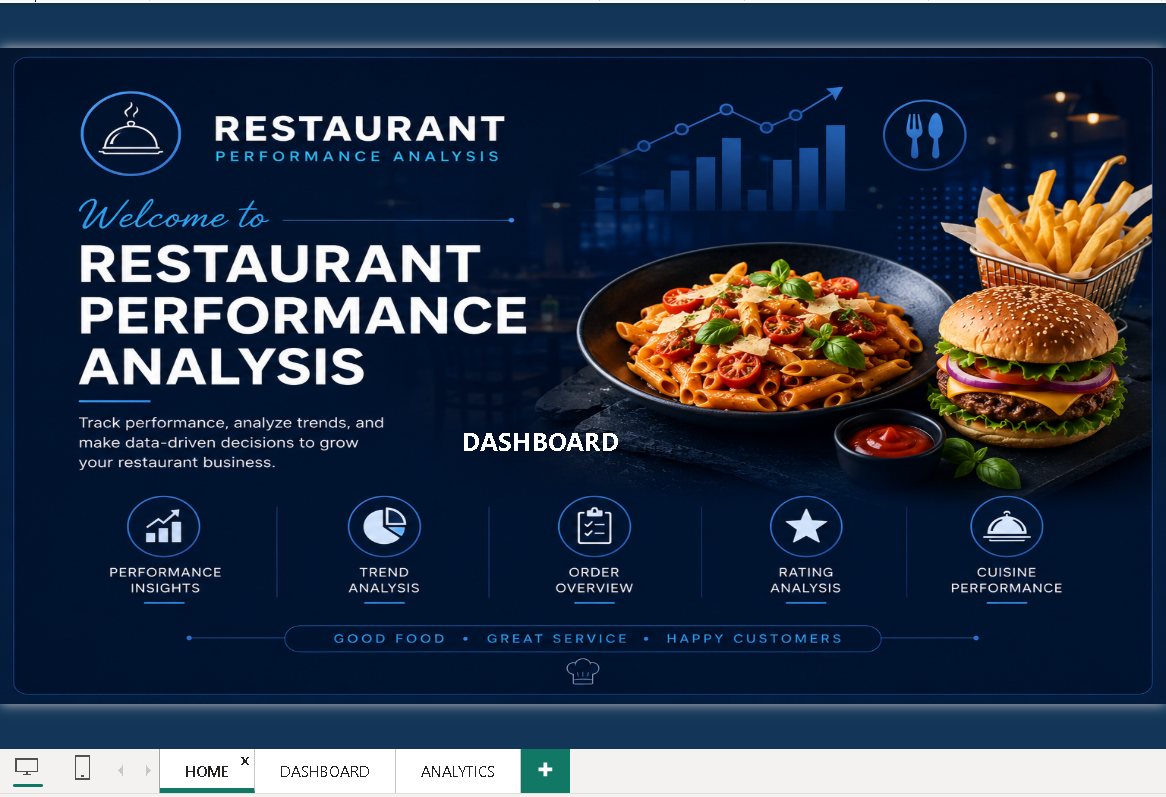

What the dashboard file says about the page in this screenshot:
{"tool":"powerbi","page":{"name":"HOME","canvas":[1920,1080],"ordinal":0},"visuals":[{"type":"shape","box":[699.8,570.2,380.8,154.4],"z":0}]}

Visuals, with their boxes on the page's 1920x1080 design canvas (x1, y1, x2, y2). These are canvas units, not pixel positions in the 1166x797 screenshot, which may show the page scaled, cropped or inside an application window:
shape: rect(700, 570, 1081, 725)
